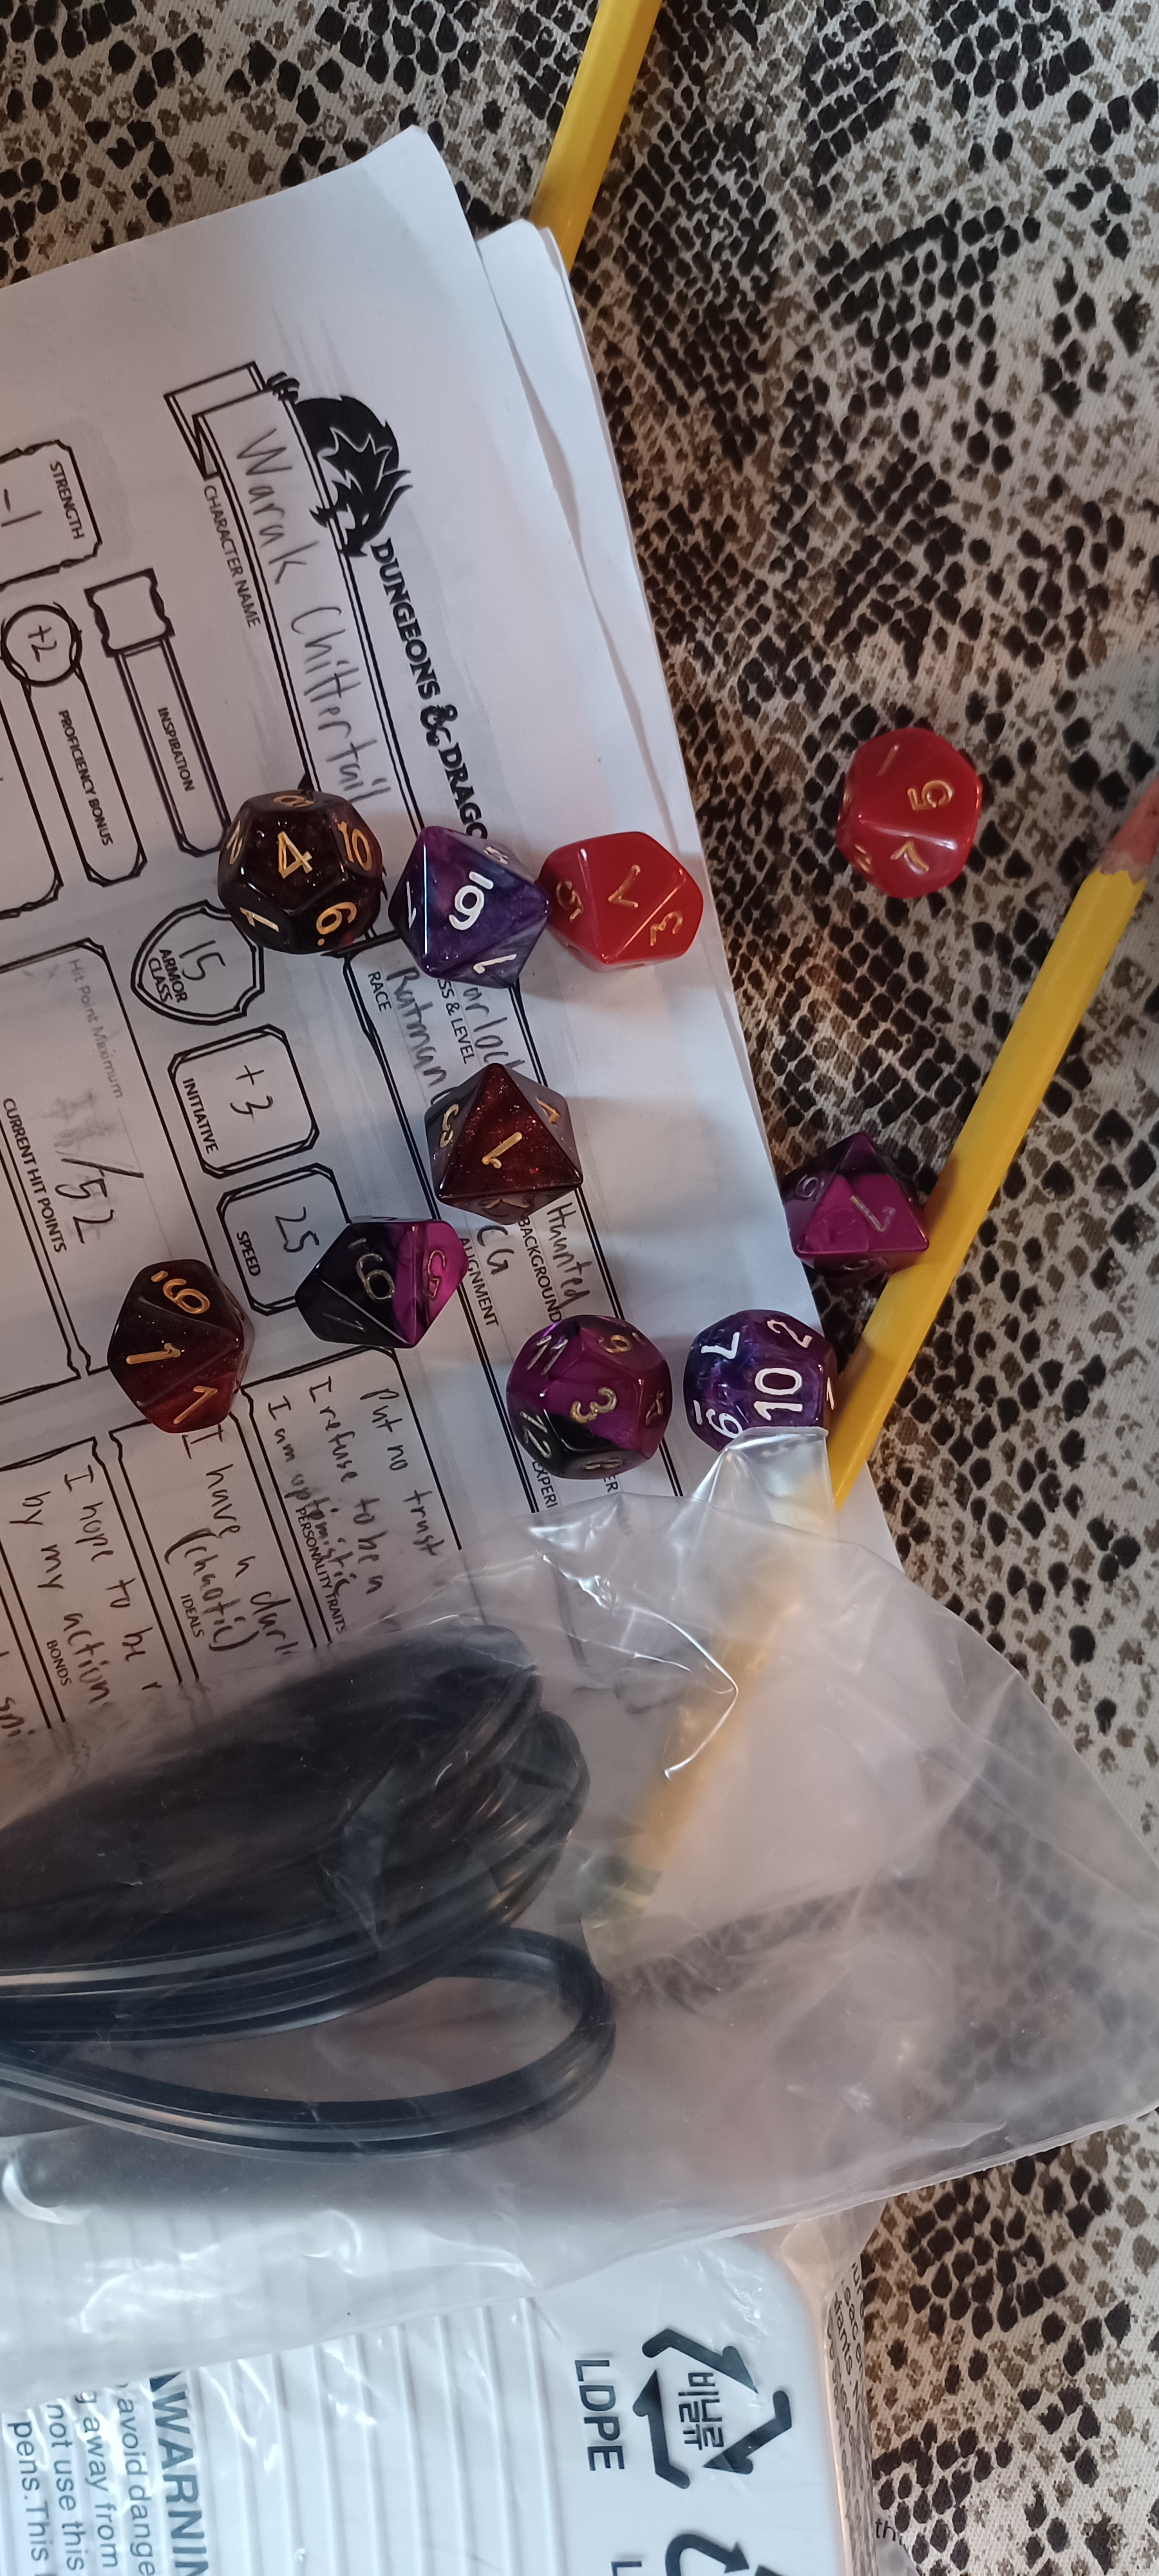five: (793, 680, 1036, 935)
four: (169, 741, 392, 986)
nine: (264, 1175, 494, 1388)
one: (57, 1222, 287, 1480), (392, 1043, 629, 1257)
seven: (527, 795, 754, 999), (762, 1117, 972, 1308)
six: (391, 792, 555, 1014)
ten: (670, 1276, 868, 1488)
three: (486, 1308, 693, 1495)
